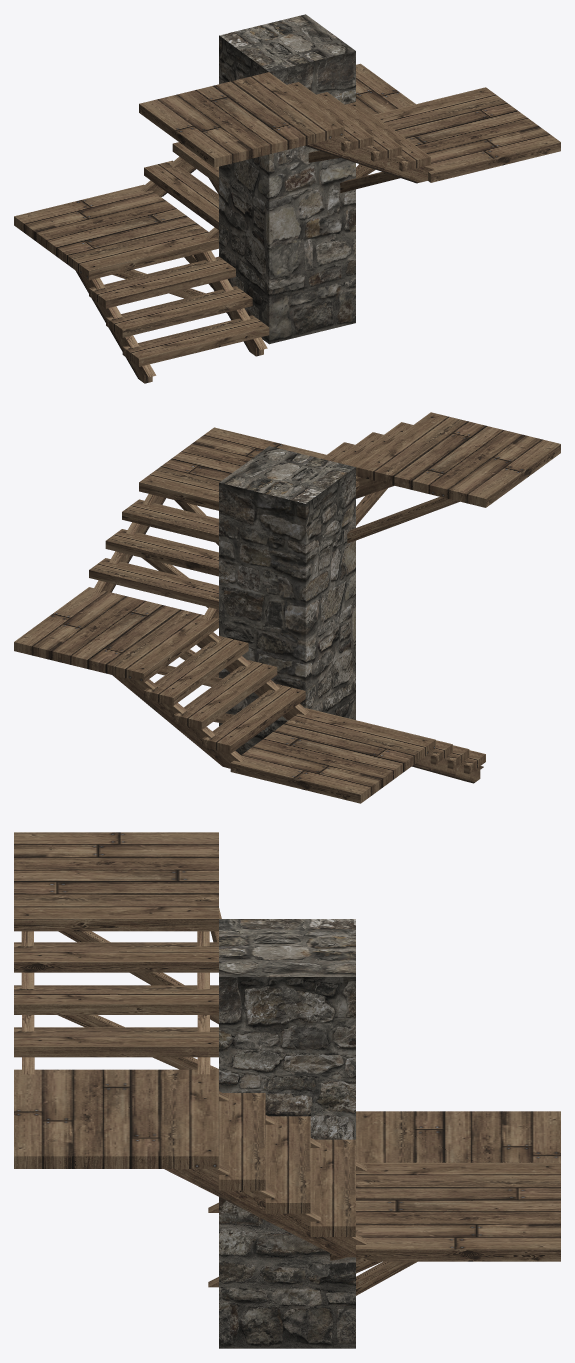
File: spiralStaircase.dae
3 views of the same model, one above another, from view 1: azimuth 30°, elevation 25°; view 2: azimuth 150°, elevation 25°; view 3: azimuth 270°, elevation 25° (orthographic). The views are drawn at different scales.
Parts seen in each view (by area): view 1: Staircase, Wall; view 2: Staircase, Wall; view 3: Staircase, Wall.
Part boxes in pixels (x1=…): Staircase: x1=14, y1=63, x2=560, y2=383; Wall: x1=219, y1=14, x2=355, y2=344; Staircase: x1=14, y1=412, x2=560, y2=803; Wall: x1=219, y1=446, x2=355, y2=754; Staircase: x1=14, y1=832, x2=560, y2=1295; Wall: x1=219, y1=919, x2=355, y2=1348.
Size of the model in its own units: 4 by 3.1 by 4.
